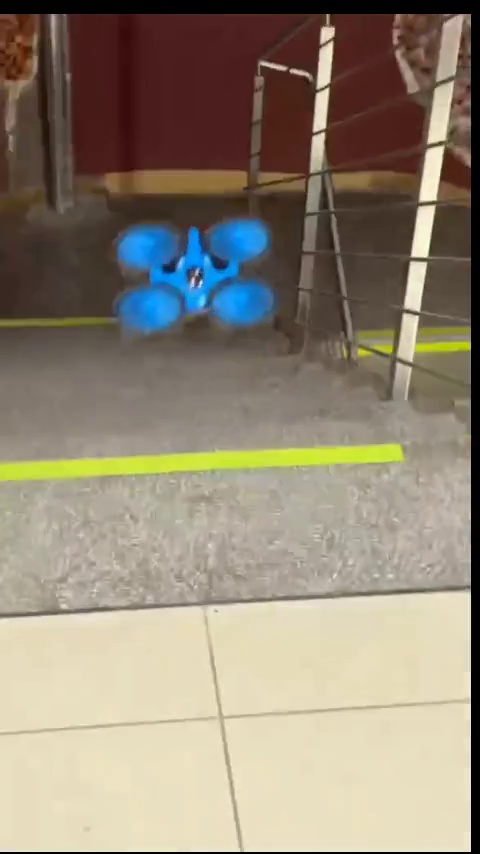drone: (114, 223, 281, 332)
